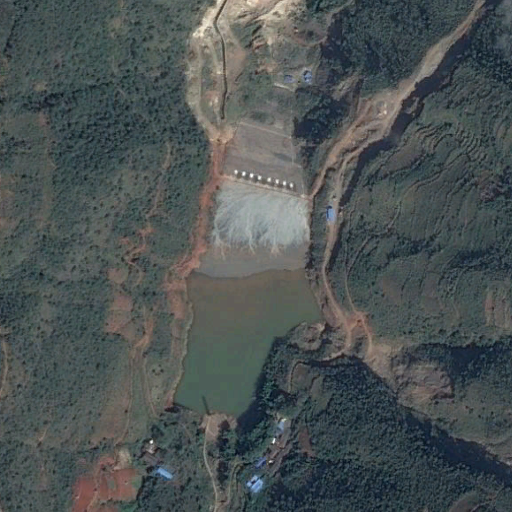tp: (170, 69, 328, 423)
